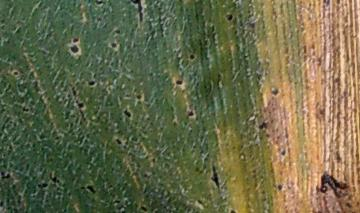tarspot: (319, 172, 349, 199), (130, 1, 144, 25), (208, 165, 221, 190), (84, 183, 96, 195), (68, 44, 80, 54), (122, 107, 132, 119), (333, 150, 342, 163), (316, 108, 325, 120), (258, 121, 268, 131), (70, 85, 78, 97), (174, 78, 184, 87), (270, 87, 280, 96), (196, 198, 205, 207), (113, 137, 123, 145), (87, 79, 96, 87), (77, 101, 85, 110), (21, 105, 30, 113), (49, 175, 58, 183), (139, 205, 148, 213), (224, 13, 233, 21), (345, 201, 354, 209), (185, 109, 195, 116), (135, 93, 143, 101), (188, 53, 196, 61), (279, 148, 287, 156), (276, 183, 284, 191), (93, 1, 105, 6), (1, 174, 11, 180), (113, 28, 121, 35), (11, 70, 19, 77), (41, 182, 49, 189), (209, 25, 216, 33), (71, 37, 80, 43), (228, 208, 238, 213), (110, 42, 117, 49), (171, 120, 178, 127), (113, 198, 121, 204), (142, 172, 150, 178), (193, 166, 201, 172), (151, 157, 157, 164), (66, 190, 72, 197), (36, 181, 41, 189), (259, 189, 267, 194), (264, 132, 270, 138), (253, 182, 259, 188), (233, 29, 239, 35), (16, 198, 22, 204), (144, 153, 149, 160), (53, 135, 60, 140), (1, 170, 6, 176), (79, 185, 85, 190), (325, 1, 330, 7), (85, 133, 90, 139), (148, 72, 154, 77), (55, 186, 60, 192), (145, 115, 150, 121), (334, 1, 341, 5), (251, 168, 256, 173), (252, 173, 257, 178), (262, 197, 267, 202), (56, 195, 61, 200), (31, 194, 36, 199), (1, 200, 4, 208), (321, 1, 327, 4)
